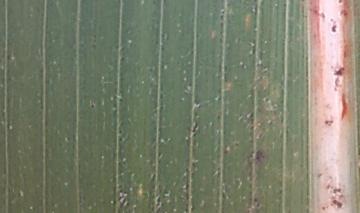tarspot: (250, 195, 261, 205), (117, 54, 127, 64), (88, 101, 97, 110)
